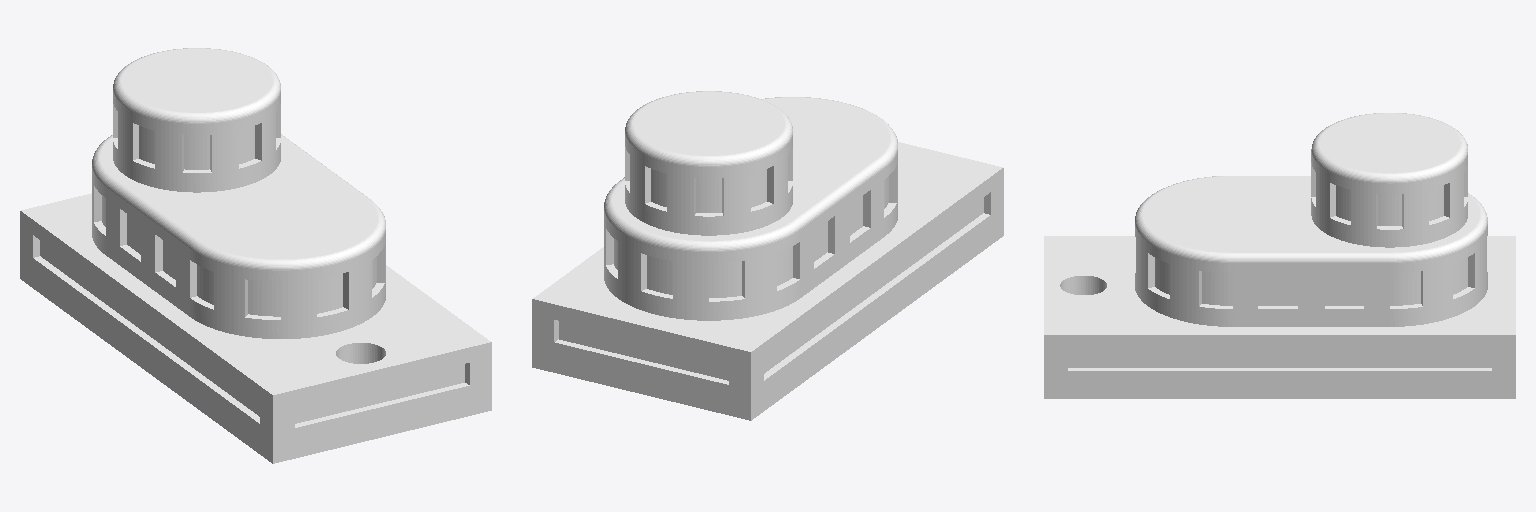
The robot description file, URDF, robot "cube.urdf":
<?xml version="1.0" ?>
<robot name="cube.urdf">
    <link name="legobrick">
        <contact>
            <lateral_friction value="1.0"/>
            <rolling_friction value="0.0"/>
            <contact_cfm value="0.0"/>
            <contact_erp value="1.0"/>
        </contact>
        <inertial>
            <origin rpy="0 0 0" xyz="0.0 0.0 0.0"/>
            <mass value="0.1"/>
            <inertia ixx="1" ixy="0" ixz="0" iyy="1" iyz="0" izz="1"/>
        </inertial>
        <visual>
            <origin rpy="1.570796 0 0" xyz="-0.001152925257731959 0.014222730670103094 -0.006989078608247398"/>
            <geometry>
                <mesh filename="Hospital_Top.obj" scale="0.001 0.001 0.001"/>
            </geometry>
            <material name="yellow">
                <color rgba="1 1 1 1"/>
            </material>
        </visual>
        <collision>
            <origin rpy="1.570796 0 0" xyz="-0.001152925257731959 0.014222730670103094 -0.006989078608247398"/>
            <geometry>
                <mesh filename="Hospital_Top.obj" scale="0.001 0.001 0.001"/>
            </geometry>
        </collision>
    </link>
</robot>

--- What the picture shows (computed from the rendered views, not written in the file) ---
3 views of the same robot in one strip: view 1: azimuth 30°, elevation 25°; view 2: azimuth 150°, elevation 25°; view 3: azimuth 270°, elevation 25° (orthographic).
Model cube.urdf with 1 links and 0 joints (none), rooted at legobrick, posed every joint at zero.
Links seen in each view (by area): view 1: legobrick; view 2: legobrick; view 3: legobrick.
Boxes of the visible links, <box> form: legobrick: <box>20,48,491,463</box>; legobrick: <box>532,91,1003,420</box>; legobrick: <box>1044,113,1515,398</box>.
Bounding box of the posed robot: 0.03 × 0.06 × 0.029 m (x, y, z).
1 mesh visuals loaded from 1 distinct referenced files (1 OBJ).